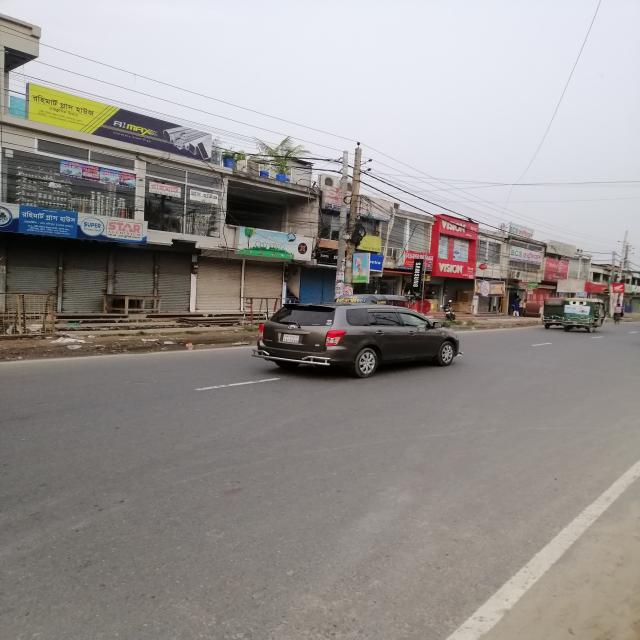Car: (249, 302, 464, 378)
